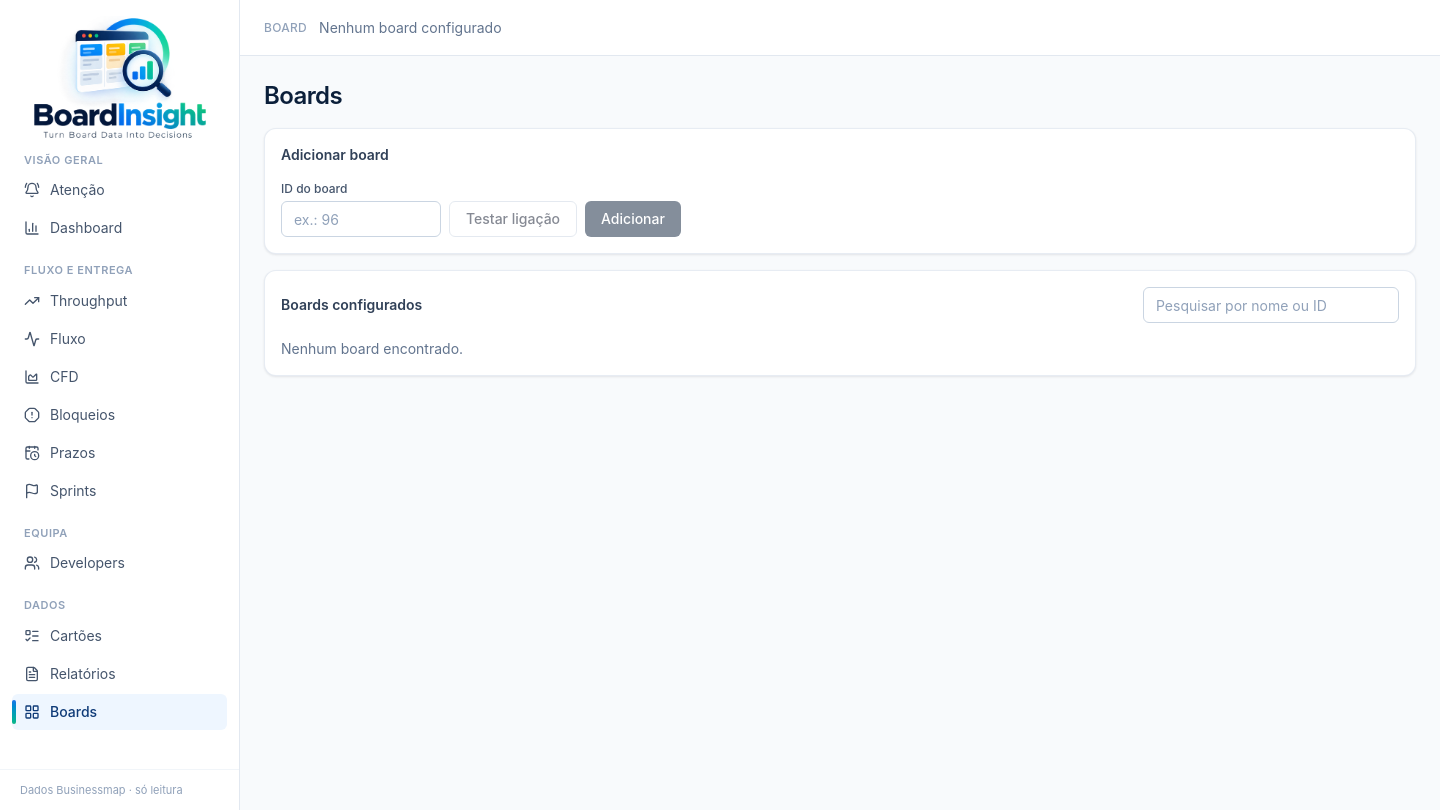
testa a ligação e adiciona um board, tornando-o o board ativo
Expected: the text "Nenhum board encontrado." is shown, [281,340,463,357]
Type "96" into the field labelled "ID do board" at (361, 219), box [281,201,441,237]
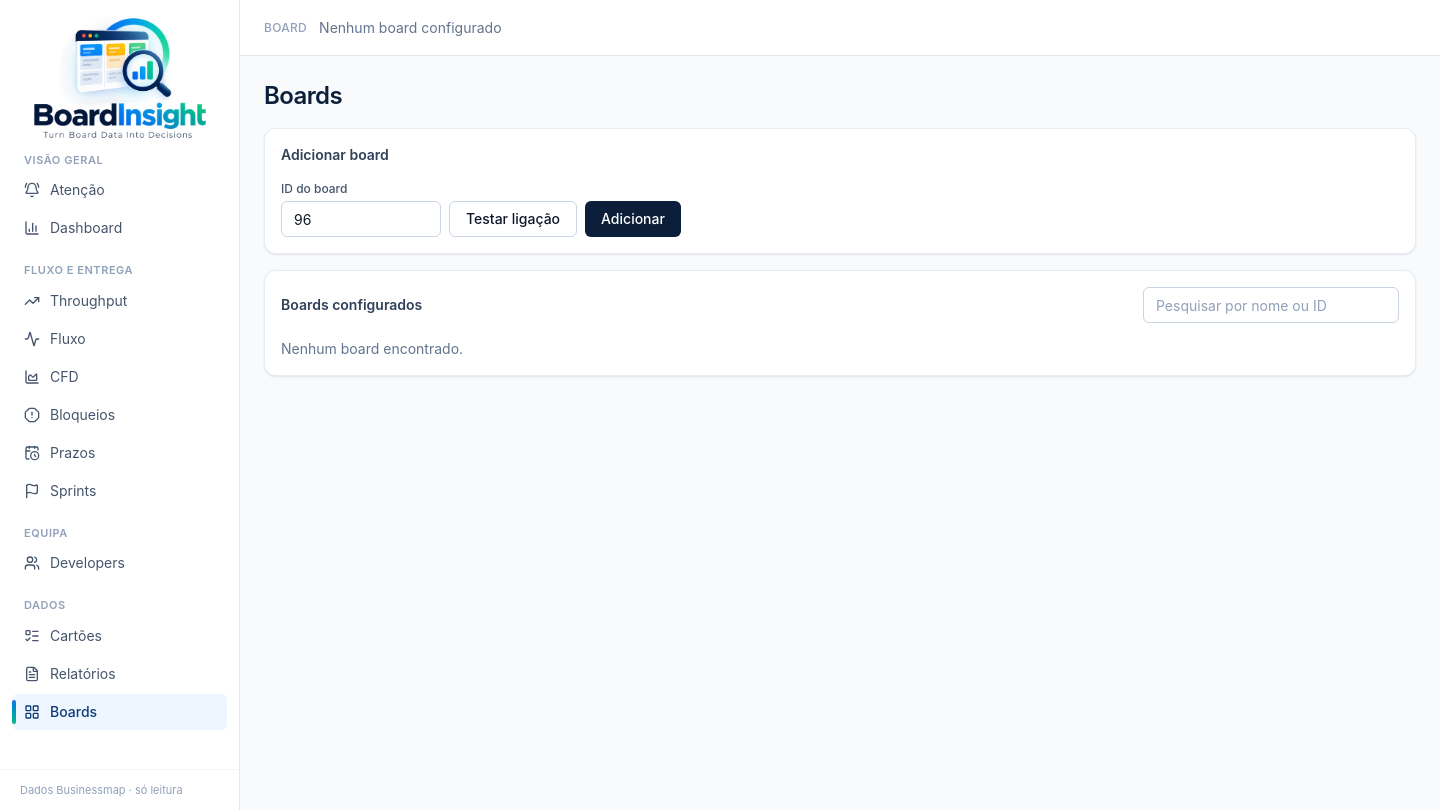
Click the button "Testar ligação" at (513, 219), box [449,201,577,237]
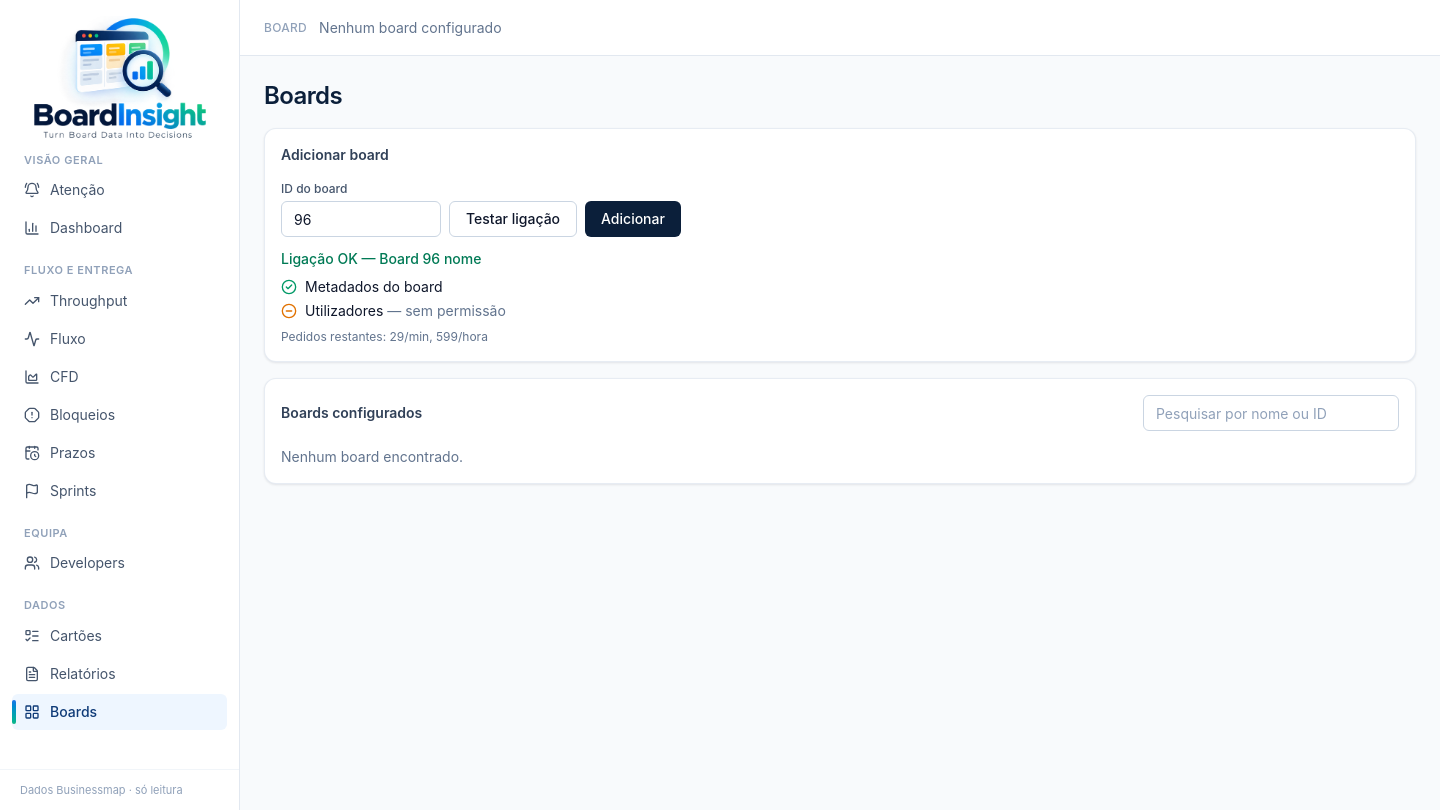
Expected: the text "Ligação OK — Board 96 nome" is shown, [281,250,481,267]
Expected: the text "— sem permissão" is shown, [383,302,506,319]
Click the button "Adicionar" at (633, 219), box [585,201,681,237]
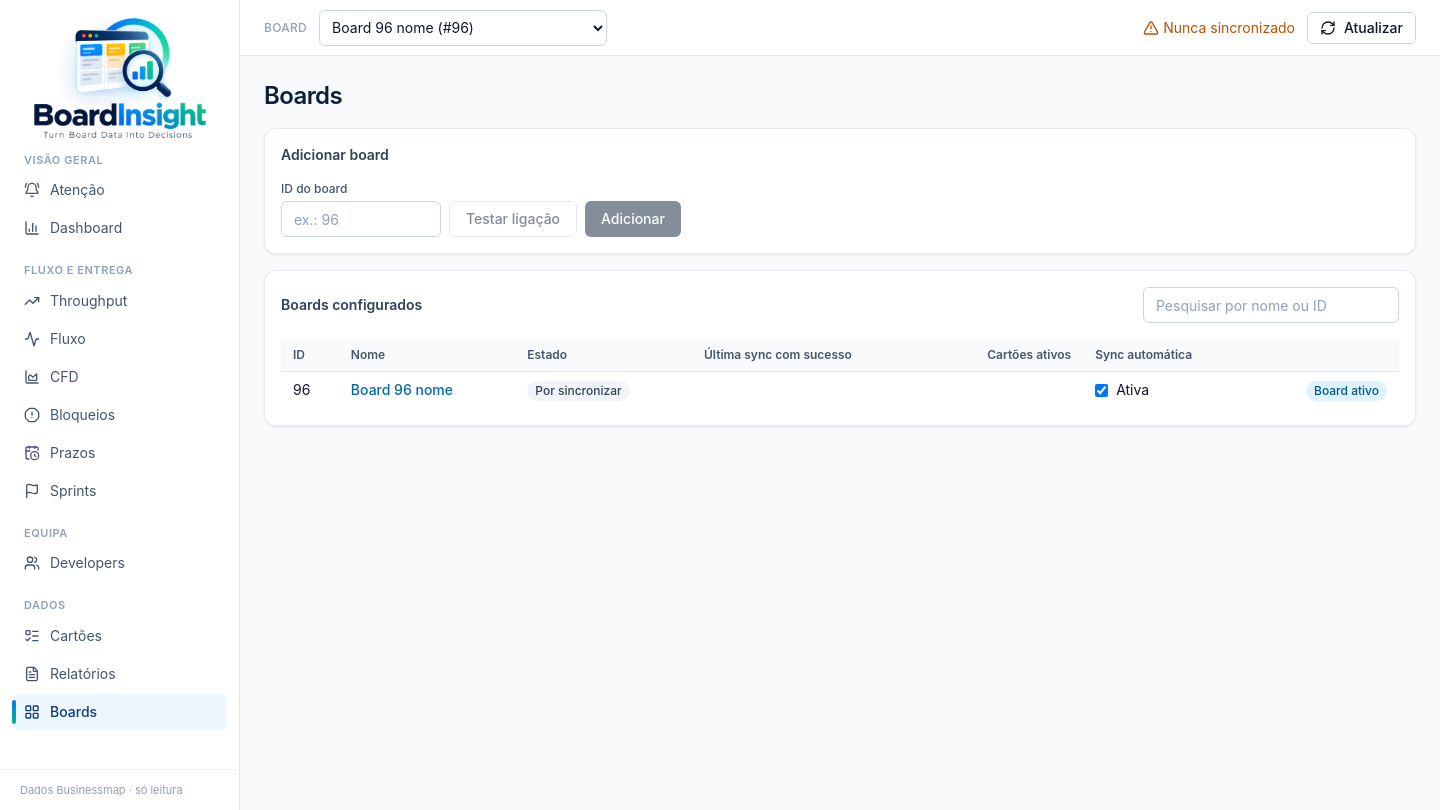
Expected: the link "Board 96 nome" is shown, [351,381,453,398]
Expected: the text "Board ativo" is shown, [1306,381,1387,401]
Expected: the dropdown named "Board ativo" shows "Board 96 nome (#96)", [319,10,607,46]
